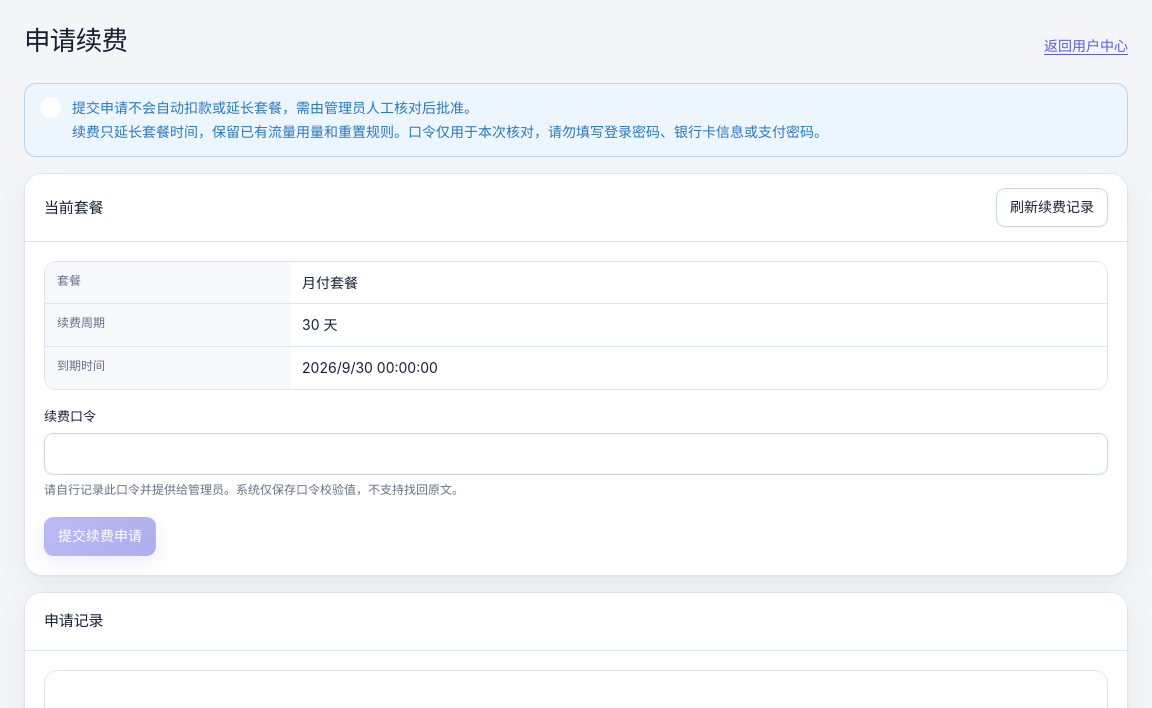
Chinese renewal workspaces › submits only once and immediately clears the reference from the form
This screenshot has width=1152, height=708.
Step 1. Type "PRIVATE-REFERENCE" into the password field labelled "续费口令" → [576, 454], box [44, 433, 1108, 475]
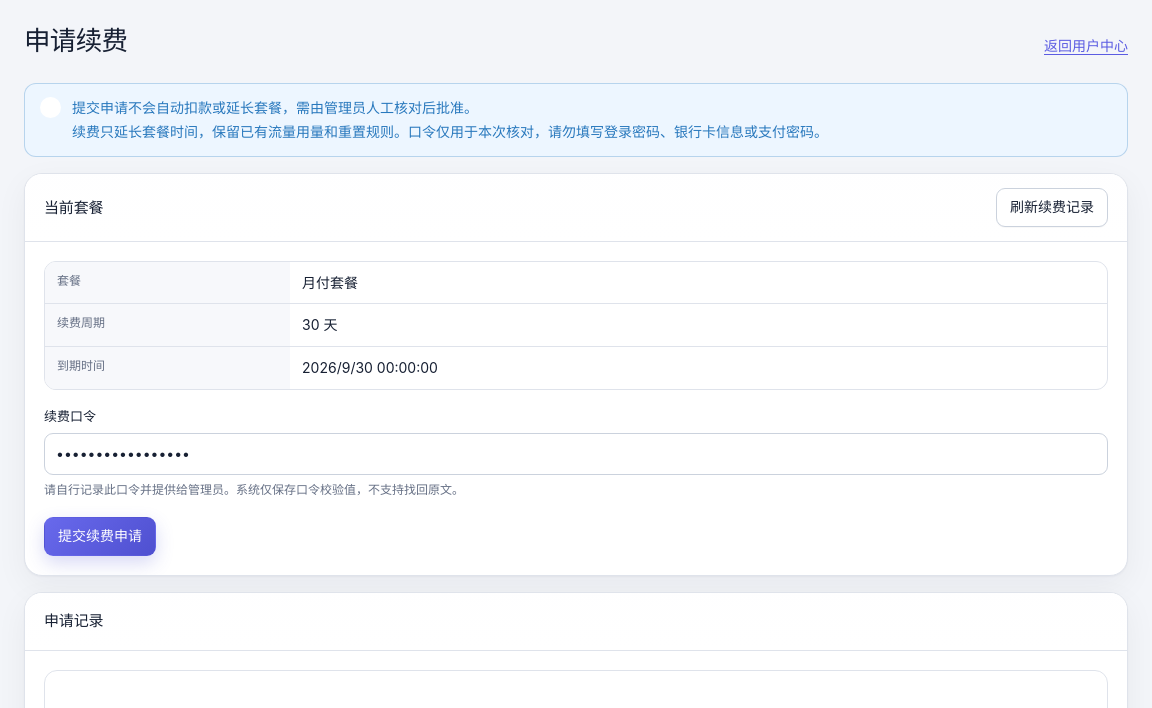
Step 2. Submit the form named "续费口令", box [44, 406, 1108, 556]
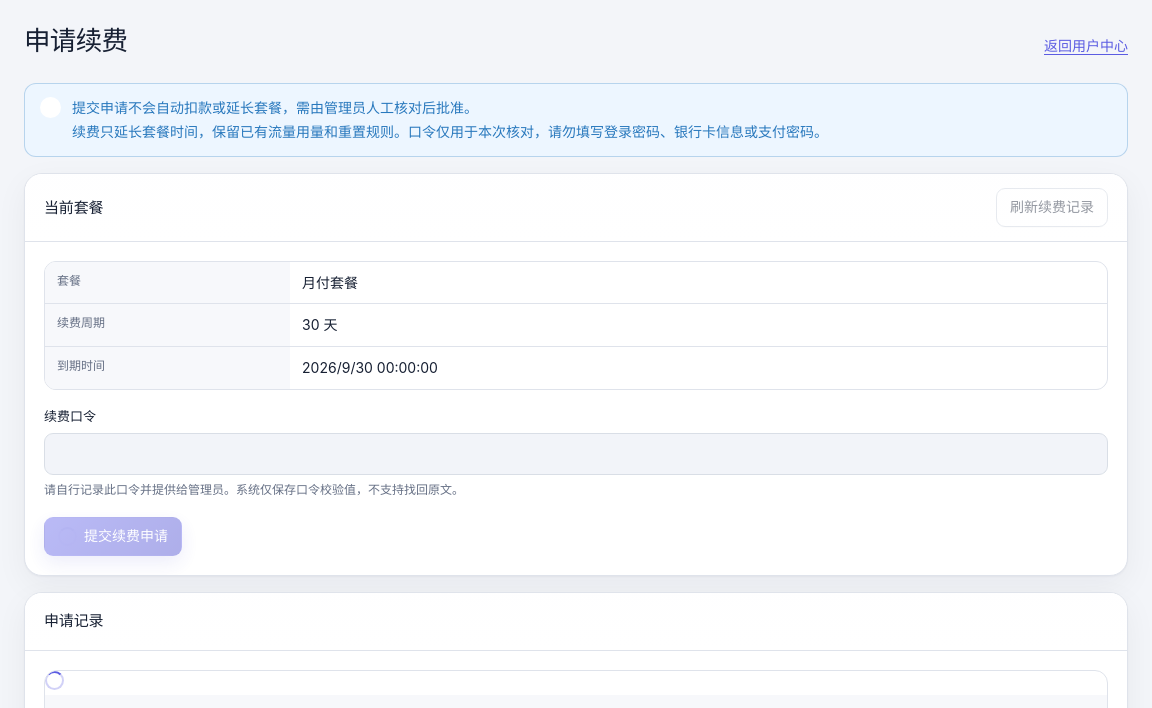
Step 3. Submit the form named "续费口令", box [44, 406, 1108, 556]
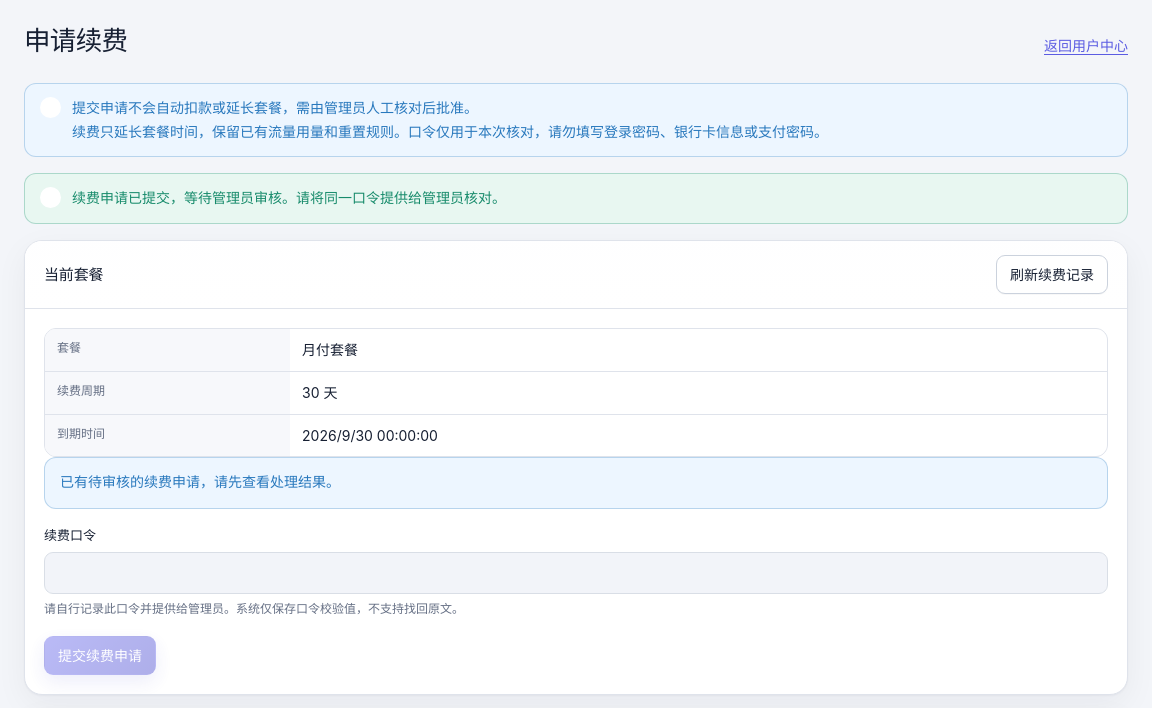
Expected: the password field labelled "续费口令" is empty, [44, 552, 1108, 594]
Expected: the button "提交续费申请" is disabled, [44, 636, 156, 675]
Expected: the text "续费申请已提交，等待管理员审核。请将同一口令提供给管理员核对。" is shown, [72, 189, 506, 206]
